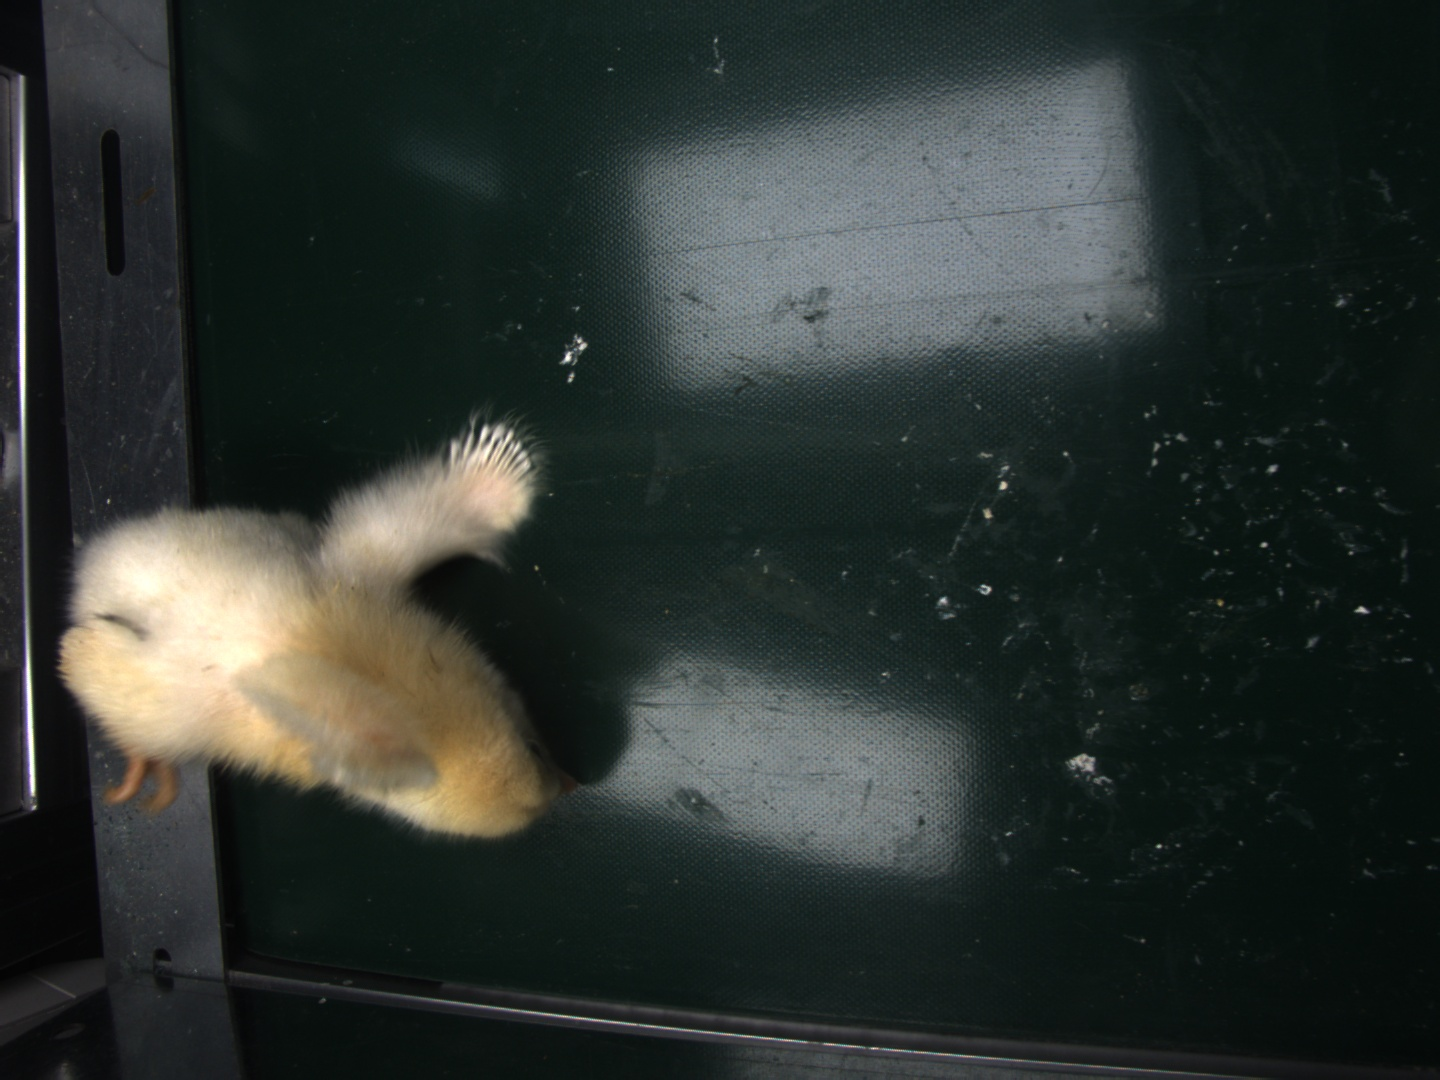male: (454, 419, 540, 481)
